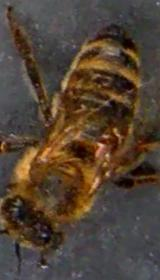varroa_mite: (89, 132, 114, 158)
